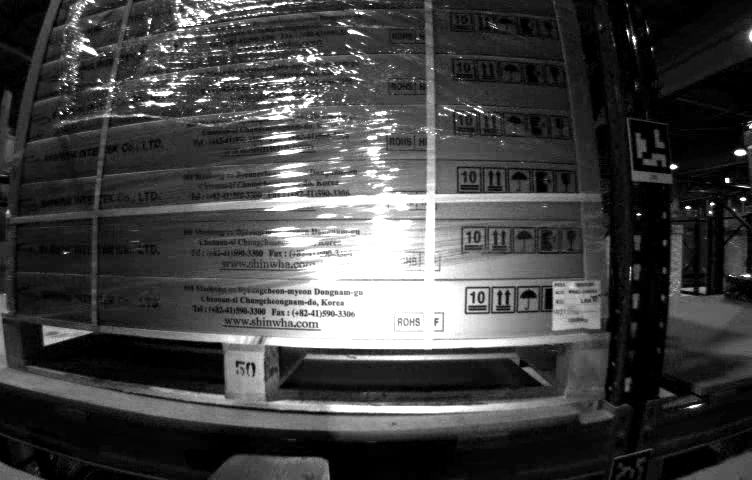True Barcode: (552, 278, 601, 332)
